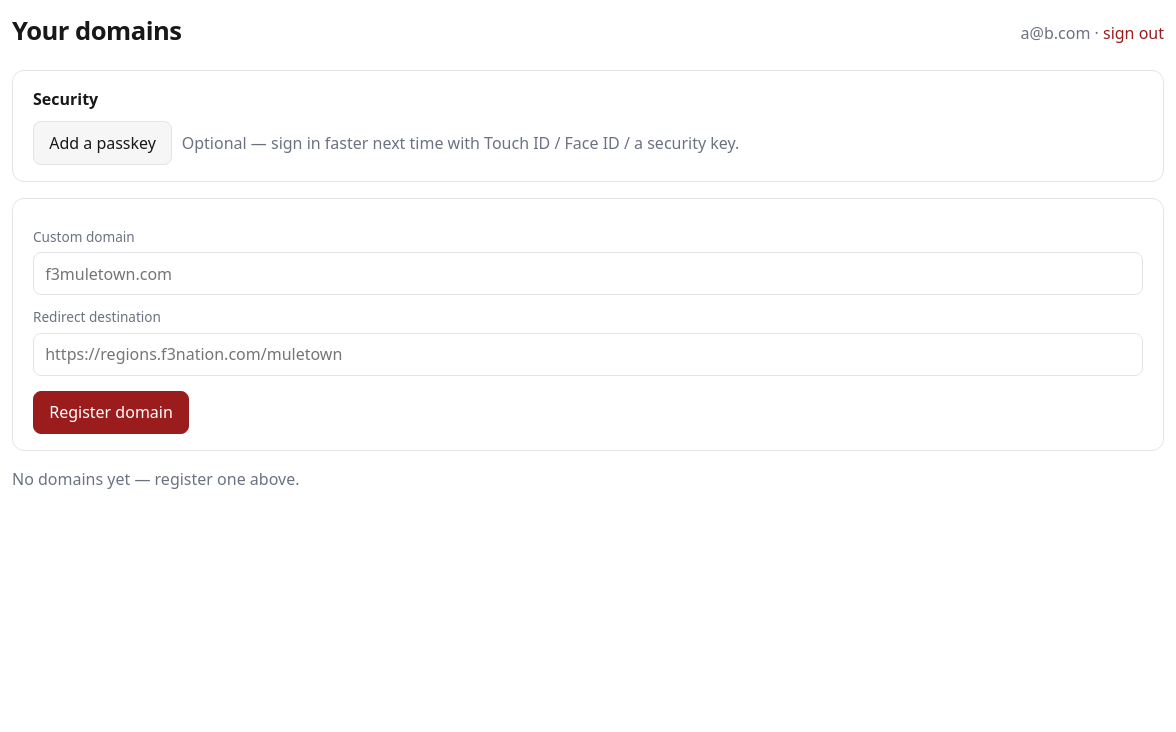
Scenario: Dashboard › adds a passkey and confirms
Step 1. Click the button "Add a passkey" → (103, 143), box left=33, top=121, right=172, bottom=165
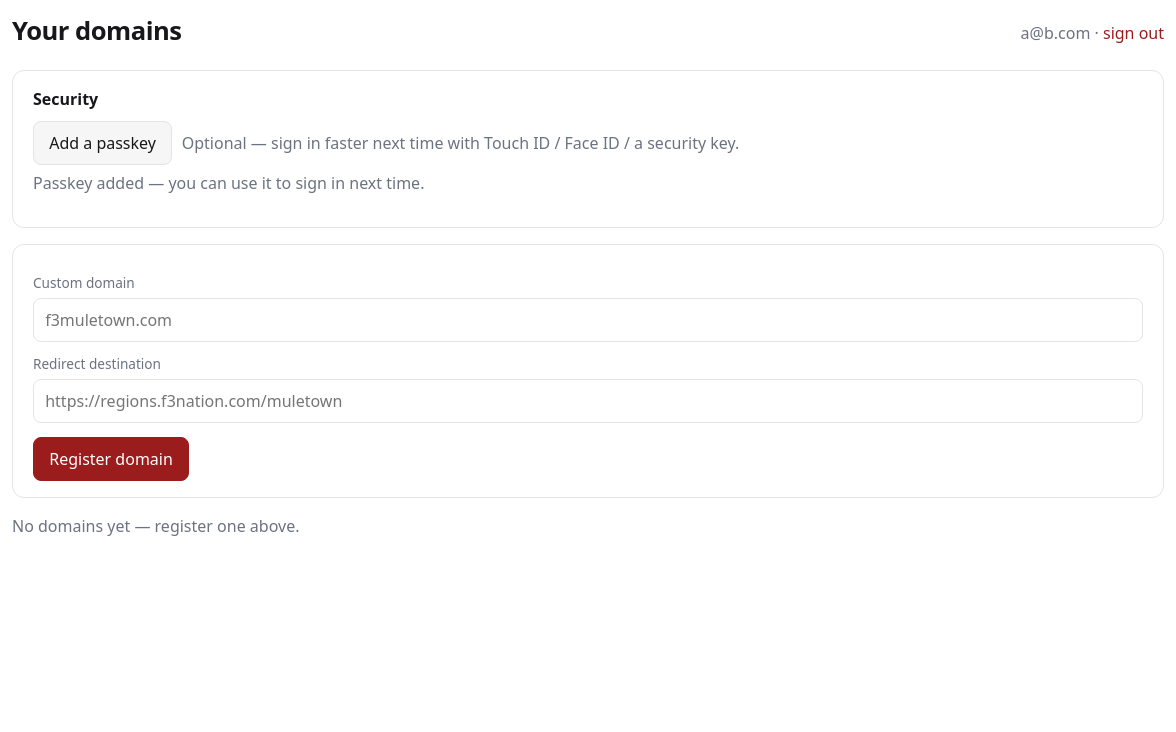
Expected: the text "Passkey added — you can use it to sign in next time." is shown, left=33, top=172, right=424, bottom=194
